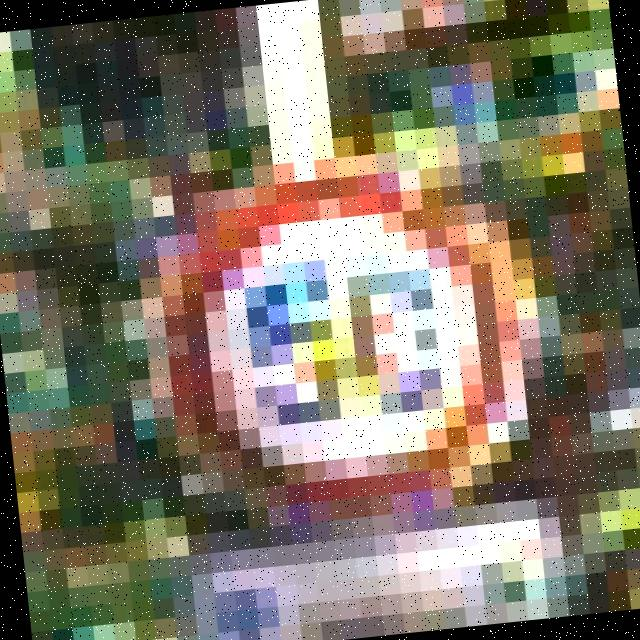Ograniczenie predkosci do 50: (149, 155, 532, 533)
